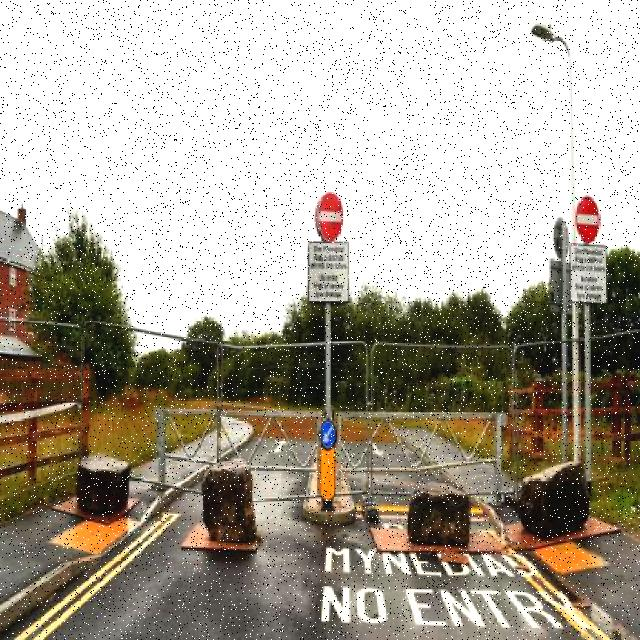Zakaz wjazdu: (572, 192, 603, 246), (314, 190, 344, 242)
